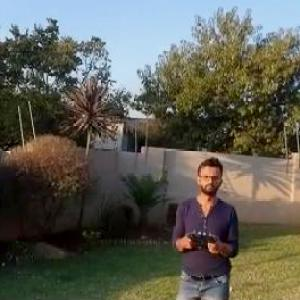follow: (167, 153, 243, 299)
